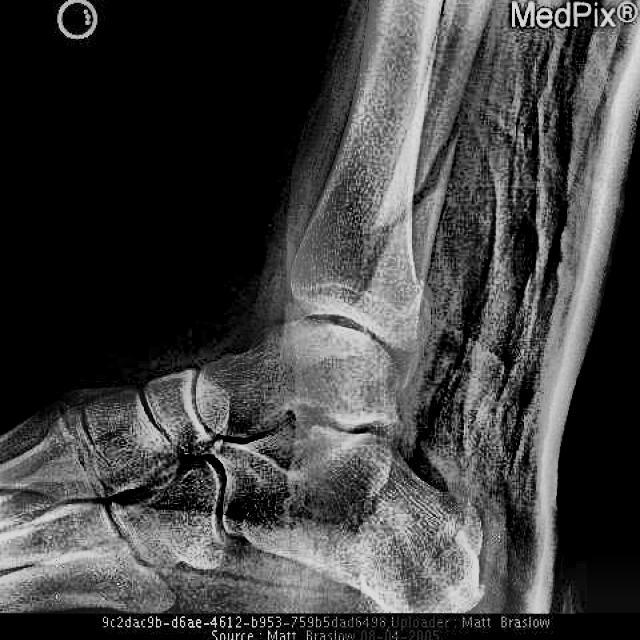fracture: (350, 142, 454, 300)
